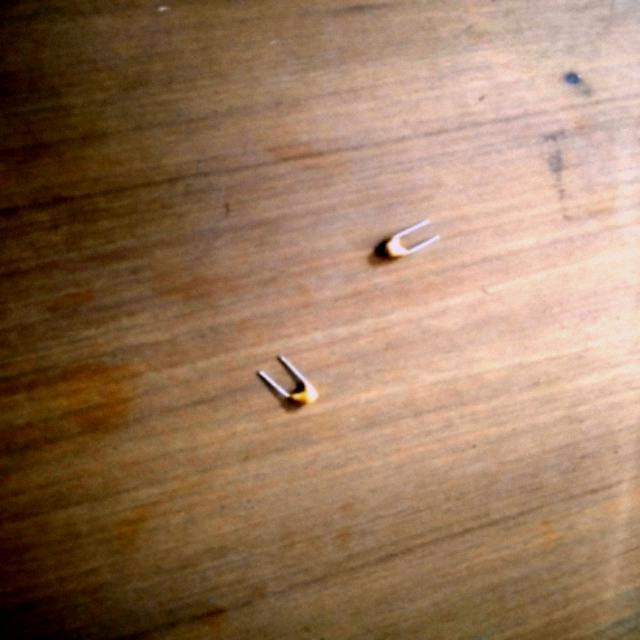capacitor: (264, 366, 318, 411), (375, 238, 405, 261)
